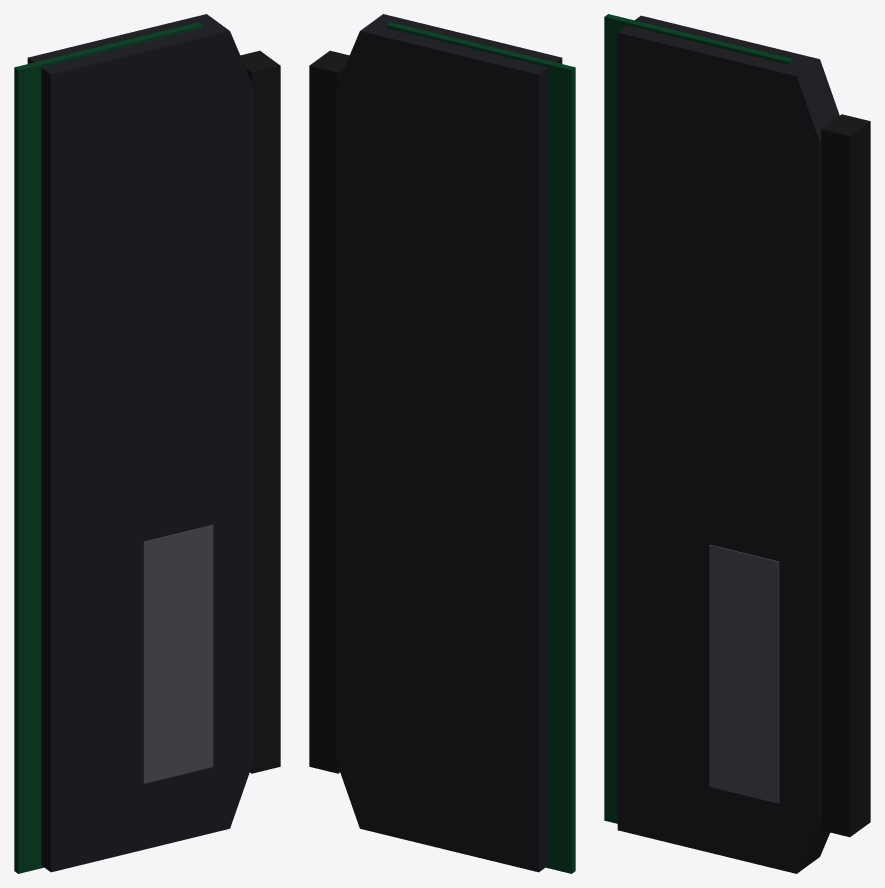
File: ram_stick.glb
3 renders of one model, left to right at view 1: azimuth 30°, elevation 25°; view 2: azimuth 150°, elevation 25°; view 3: azimuth 330°, elevation 25°, orthographic.
Visible parts, largest first — view 1: spreader, pcb, rgb_bar, accent_cut; view 2: spreader, pcb, rgb_bar; view 3: spreader, rgb_bar, accent_cut, pcb.
Part boxes in pixels (box(x1,y1,x2,y2)): spreader: box(27, 14, 252, 872); pcb: box(14, 22, 202, 873); rgb_bar: box(240, 50, 280, 773); accent_cut: box(143, 525, 213, 783); spreader: box(337, 14, 562, 872); pcb: box(387, 22, 575, 873); rgb_bar: box(309, 50, 349, 773); spreader: box(617, 15, 839, 873); rgb_bar: box(821, 114, 870, 837); accent_cut: box(709, 544, 779, 803); pcb: box(604, 14, 792, 823).
Bounding box in the file's own units: 4.4 × 13.3 × 0.72.
